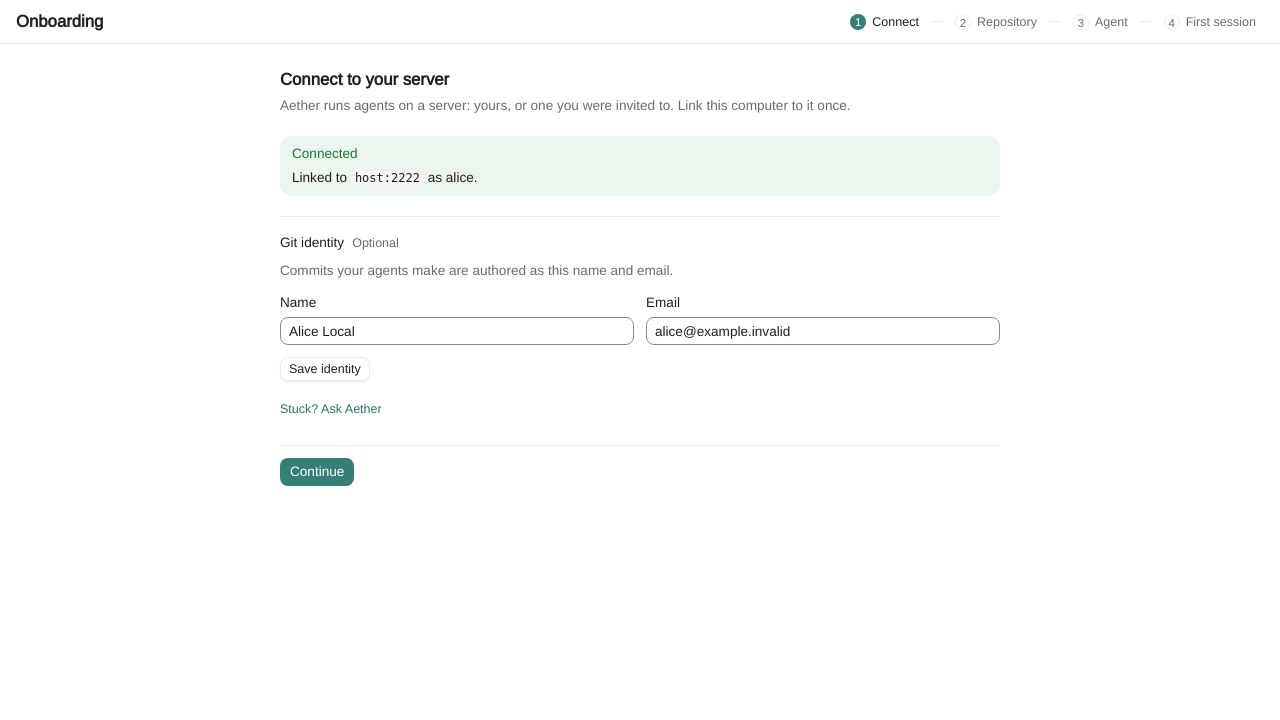
onboarding wizard › shows a configured server without a repository and opens the repository choice
Expected: the 11th text "host:2222" is shown, [355,171,420,185]
What coordinates should you click on to do the following:
click the 3rd button named "Continue"
I would click on:
 (317, 472)
Its box is [280,458,354,486].
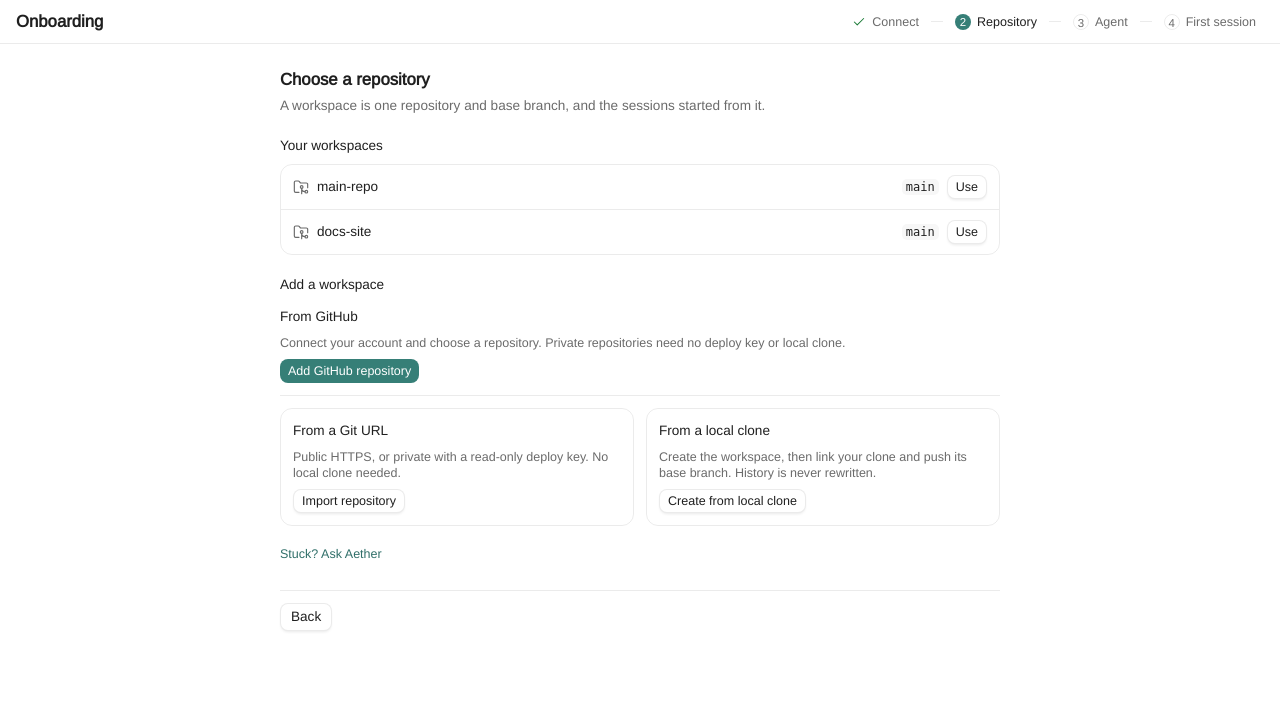
Result: the element named "Repository" is shown at [280,68,1000,643]
